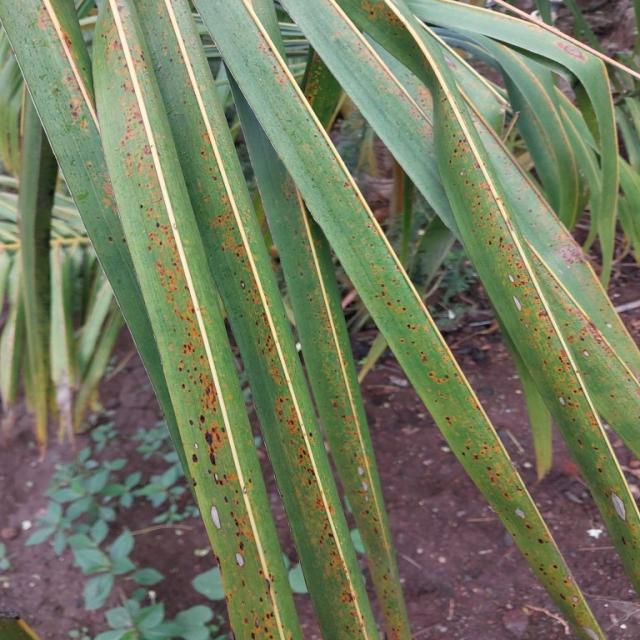gray leaf spot: (95, 66, 572, 632)
